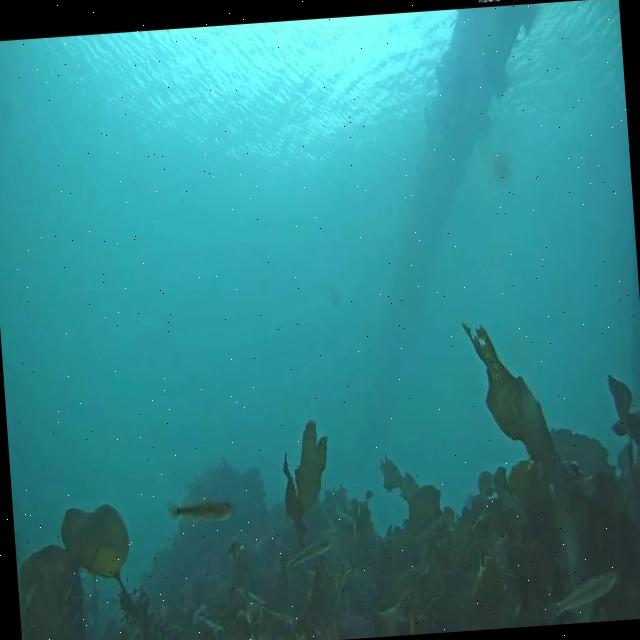fish: (550, 566, 622, 616), (283, 534, 334, 578), (165, 498, 235, 529), (327, 287, 345, 311)
